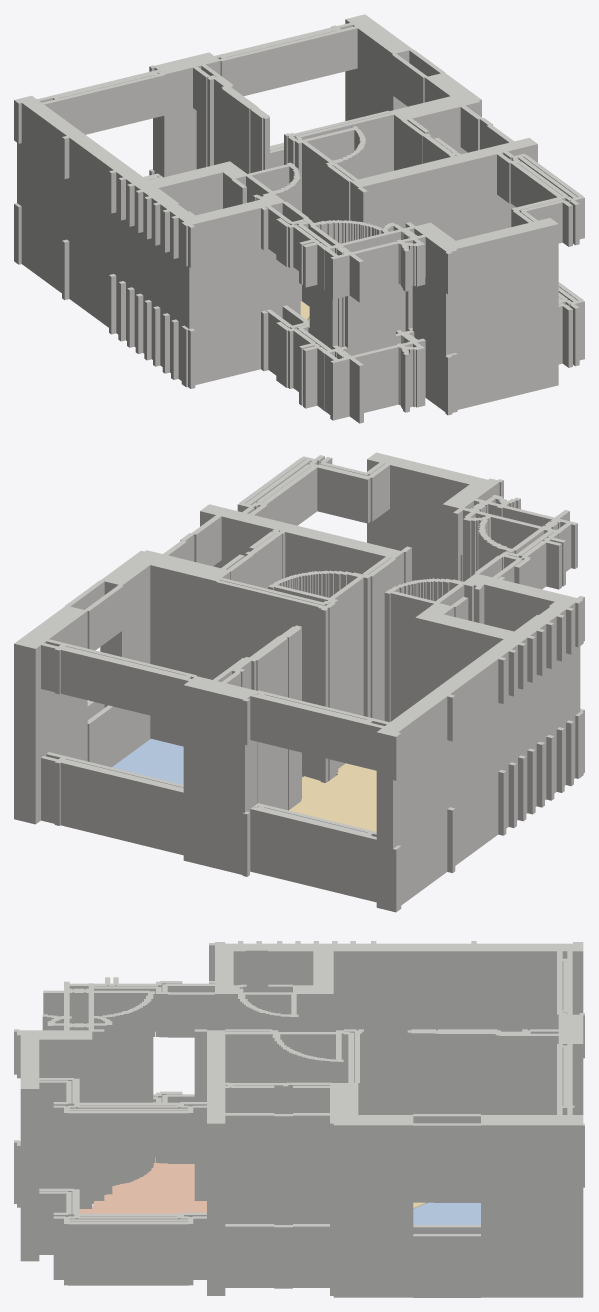
The picture shows the model from 3 angles, top to bottom: view 1: azimuth 30°, elevation 25°; view 2: azimuth 150°, elevation 25°; view 3: azimuth 270°, elevation 25°; orthographic projection. The views are drawn at different scales.
Parts seen in each view (by area): view 1: walls; view 2: walls, room:living:1, room:bedroom:0; view 3: walls, room:kitchen:5, room:bedroom:0.
Part boxes in pixels (x1,y1,x2,y2): walls: [14, 14, 584, 423]; walls: [14, 452, 584, 912]; room:living:1: [289, 763, 376, 831]; room:bedroom:0: [112, 739, 302, 784]; walls: [14, 941, 584, 1297]; room:kitchen:5: [79, 1157, 206, 1213]; room:bedroom:0: [413, 1202, 480, 1224].
Bounding box in the file's own units: 6.42 × 2.8 × 8.41.
